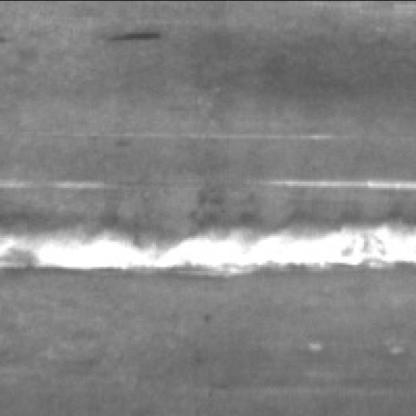inclusion: (108, 21, 173, 44)
scratches: (4, 210, 416, 277), (262, 169, 416, 193), (2, 169, 127, 193)
